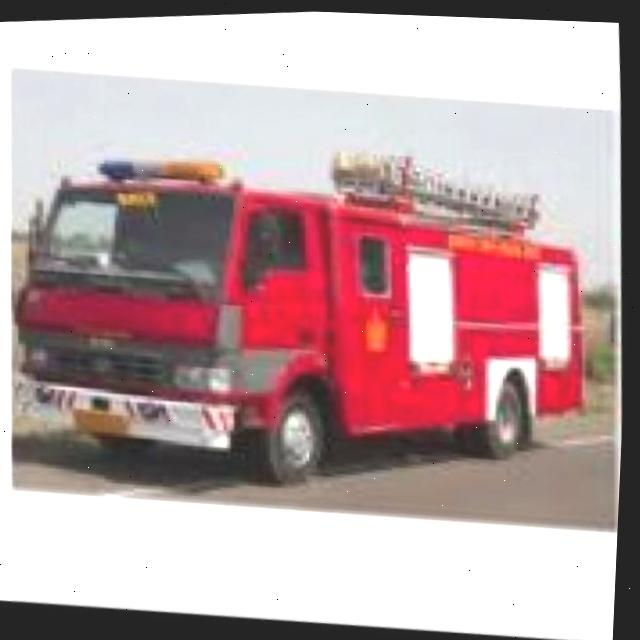emergency: (0, 117, 606, 508)
